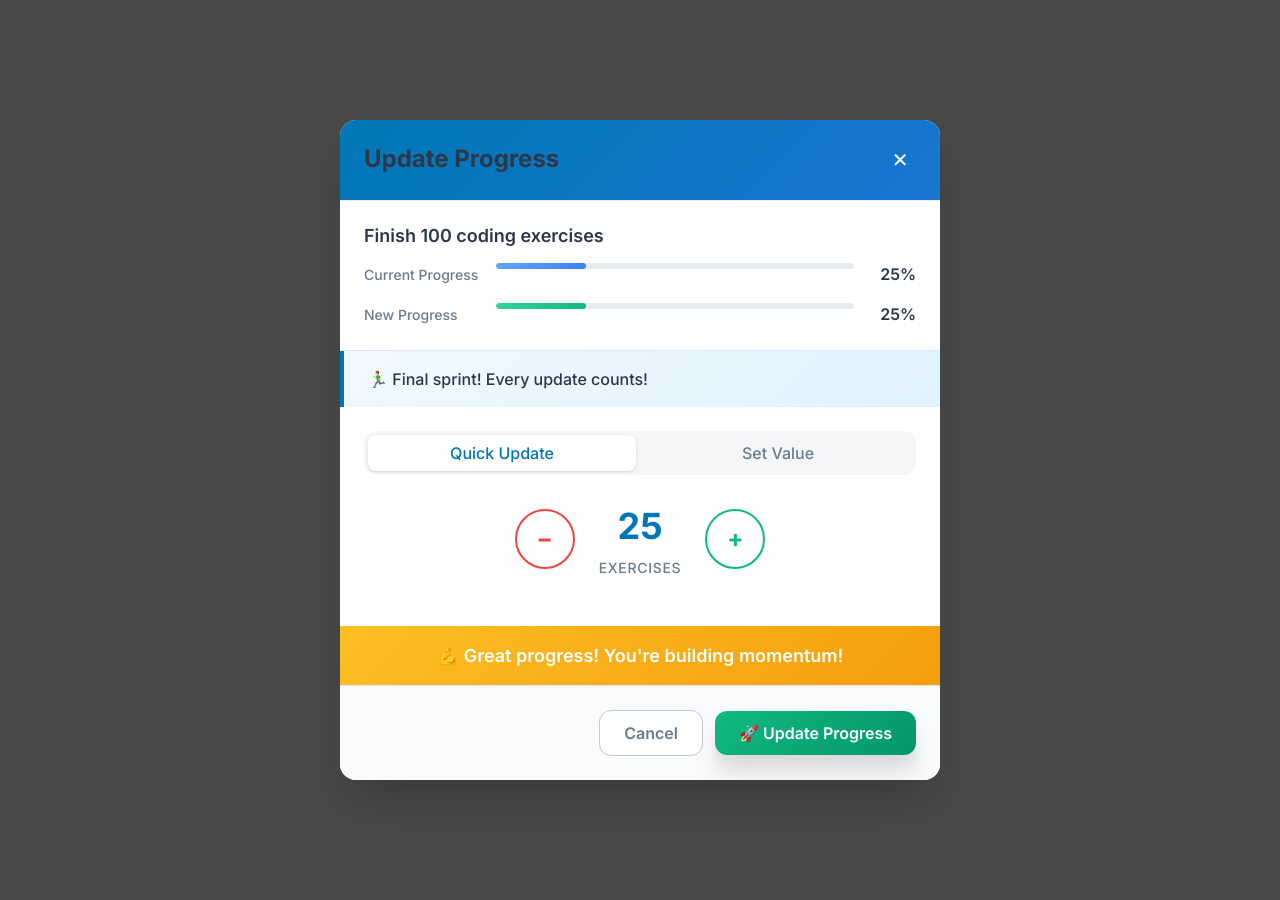
Test: ProgressUpdateModal › Input Methods › custom input mode accepts valid values
The width and height of the screenshot is (1280, 900).
Click the button "Set Value" at [778, 453], box 644,435 -> 912,471
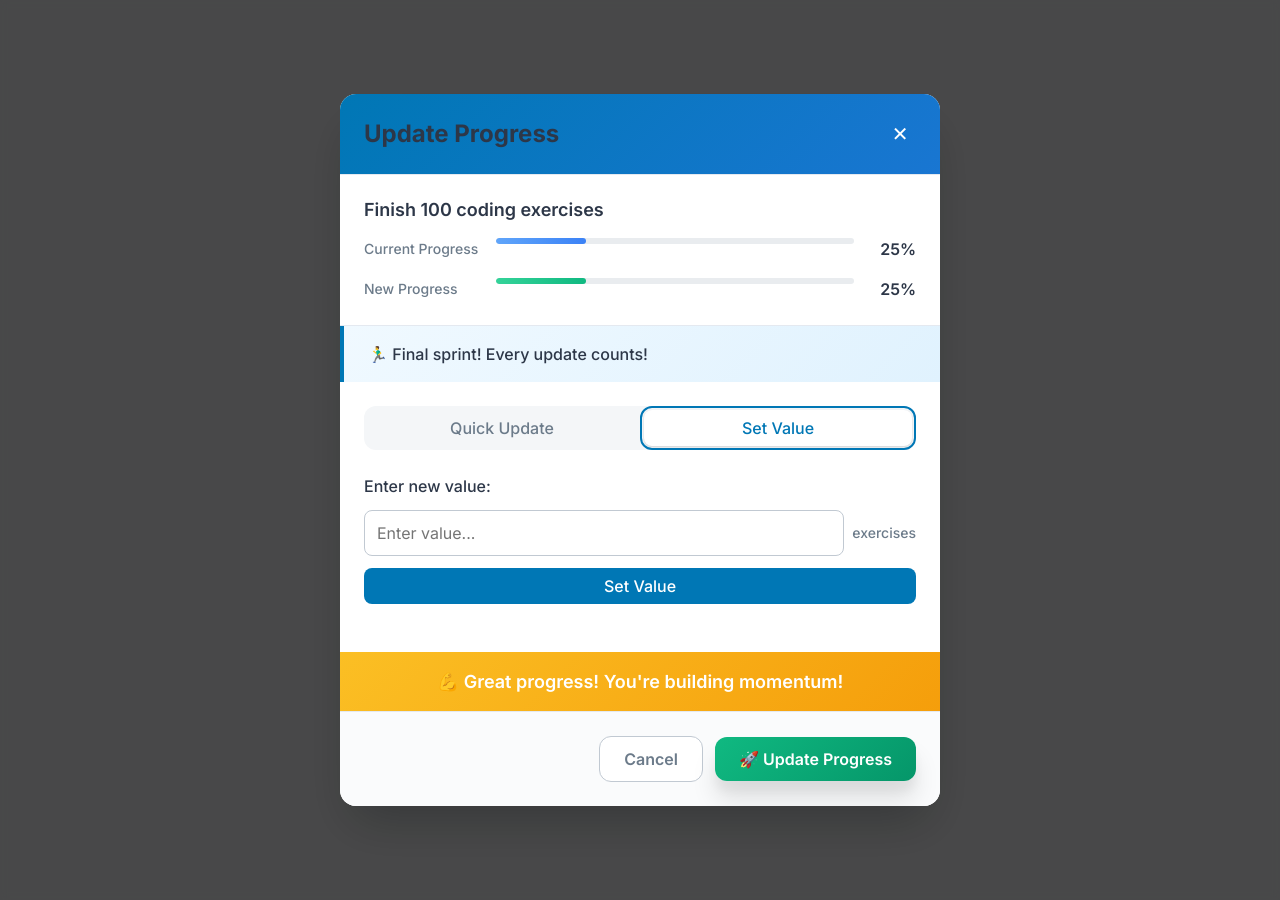
Type "75" into the number field with placeholder "Enter value..." at [604, 533], box 364,510 -> 844,556
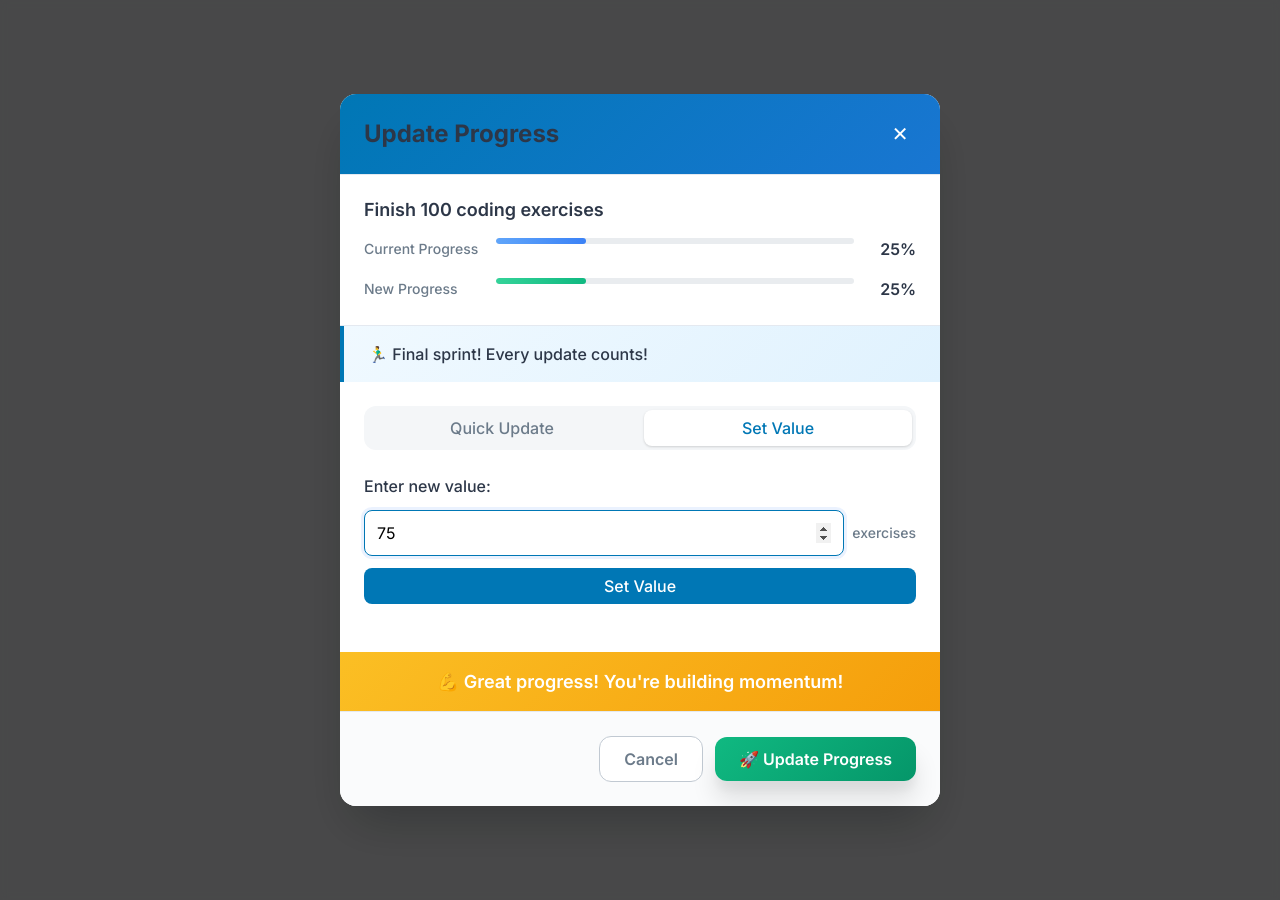
Click the button "Set Value" below "Enter new value:" at [640, 586], box 364,568 -> 916,604
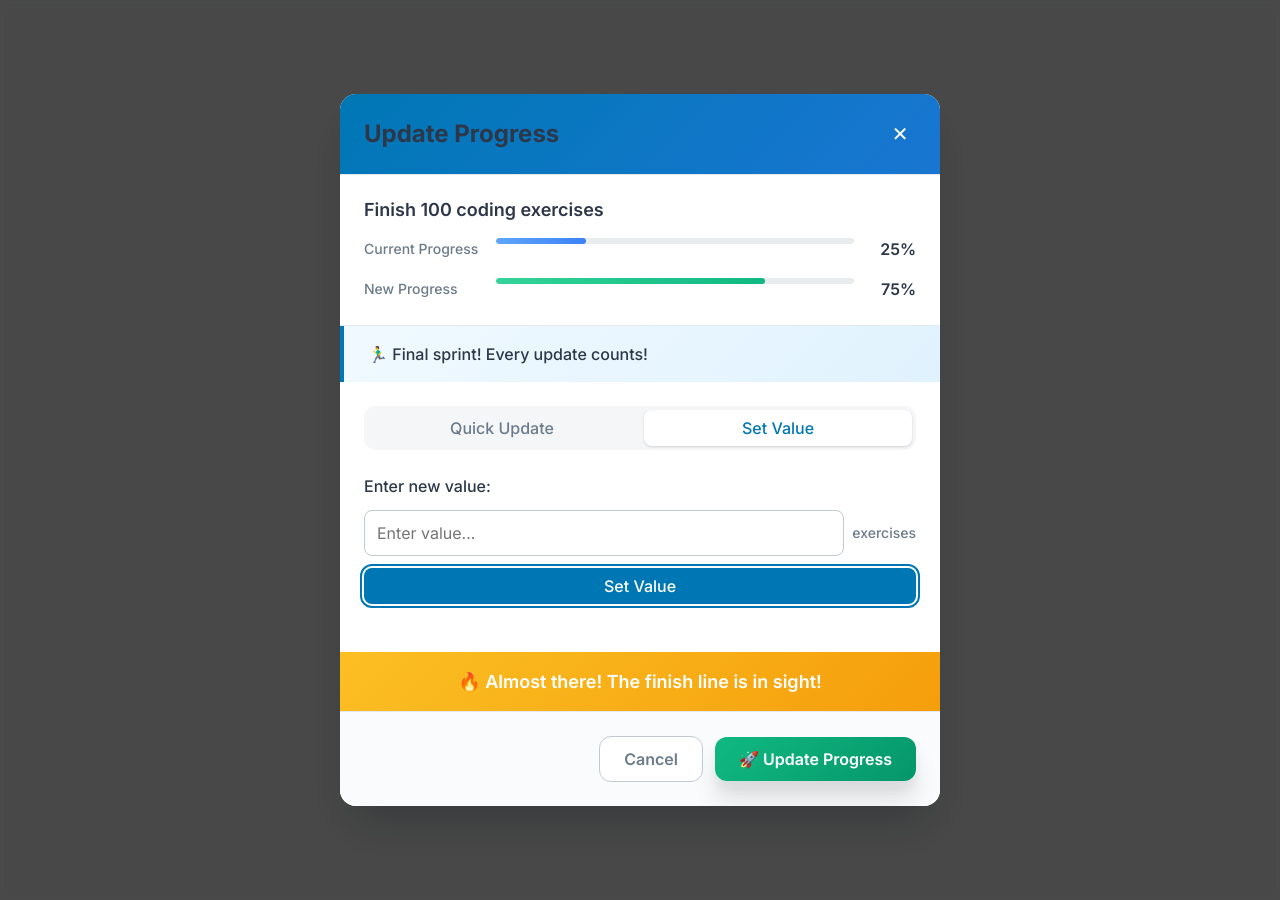
Check: the text "75%" is shown, box 881,279 -> 916,299
